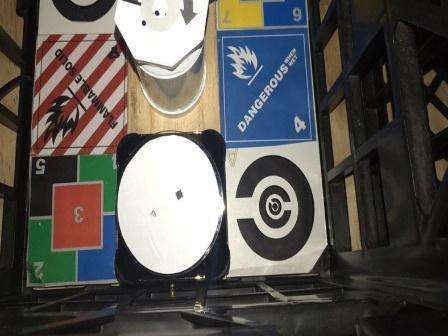dangerous-when-wet: (217, 25, 317, 147)
flammable-solid: (31, 31, 128, 155)
